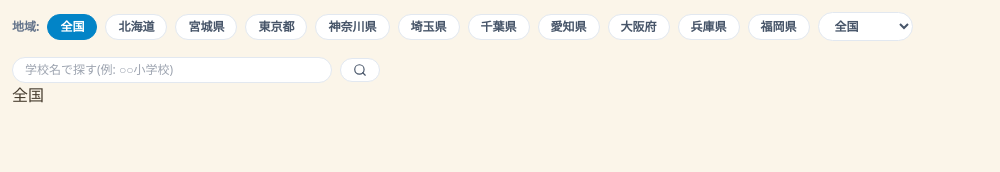
報告一覧の地域フィルタ(フック+UI) › 報告の無い県を選ぶと、市町村セレクトを隠さず無効にして理由を出す
Select "鳥取県" in the dropdown named "都道府県を選ぶ" at [865, 26], box [818, 12, 913, 41]
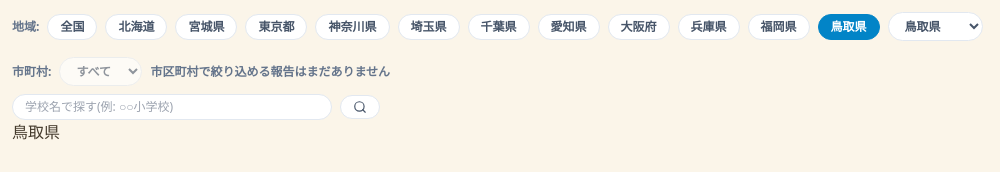
Result: the text "市区町村で絞り込める報告はまだありません" is shown at [150, 64, 390, 80]
Result: the dropdown named "市町村を選ぶ" is disabled at [59, 57, 142, 86]
